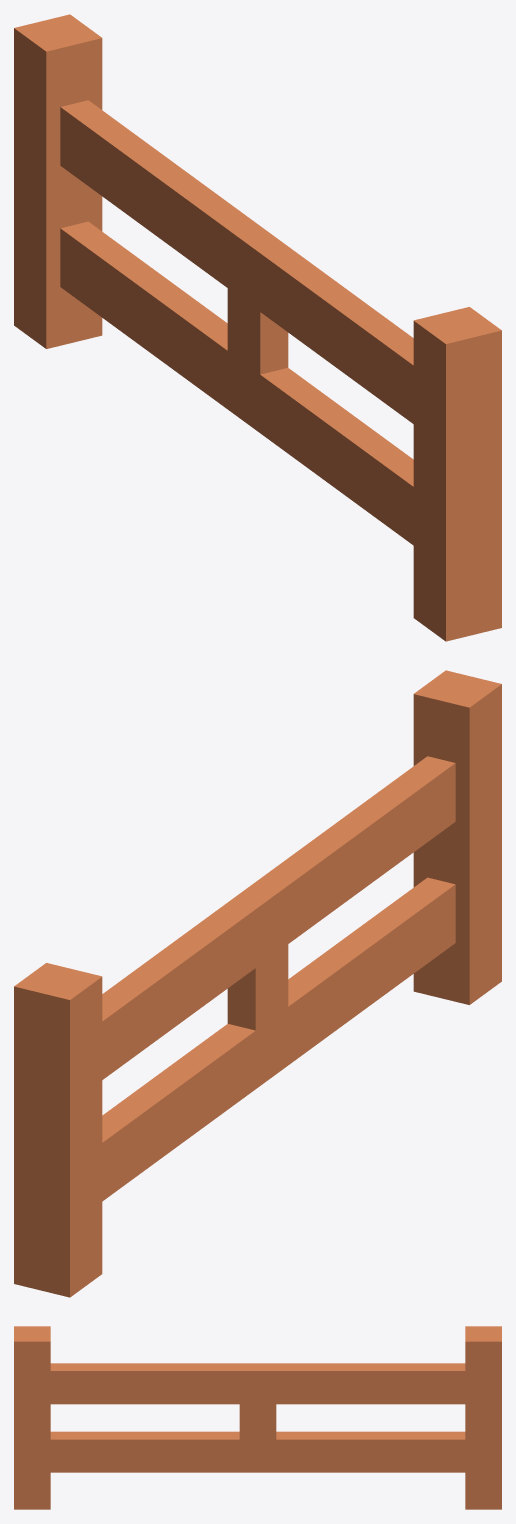
The model's file is fence.fbx.
The picture shows the model from 3 angles, top to bottom: view 1: azimuth 30°, elevation 25°; view 2: azimuth 150°, elevation 25°; view 3: azimuth 270°, elevation 25°; orthographic projection. The views are drawn at different scales.
Visible parts, largest first — view 1: fence; view 2: fence; view 3: fence.
Boxes of the visible parts, x1,y1,x2,y2 form: fence: [14, 14, 501, 641]; fence: [14, 670, 501, 1297]; fence: [14, 1326, 501, 1509].
Size of the model in its own units: 0.75 by 3.8 by 10.
